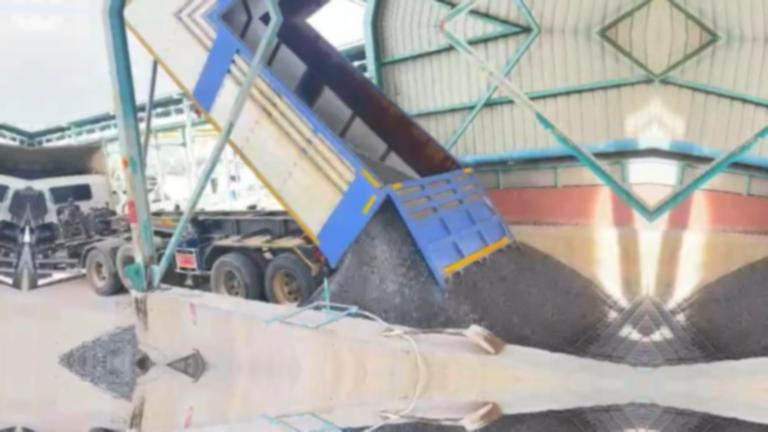gravel: (329, 201, 612, 351), (59, 325, 150, 363), (352, 144, 411, 183)
